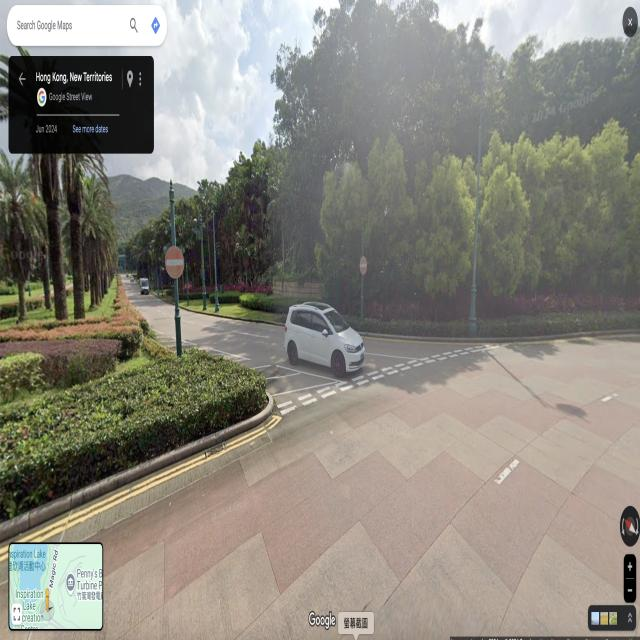Order-Sign: (164, 245, 185, 279), (359, 256, 368, 275)
